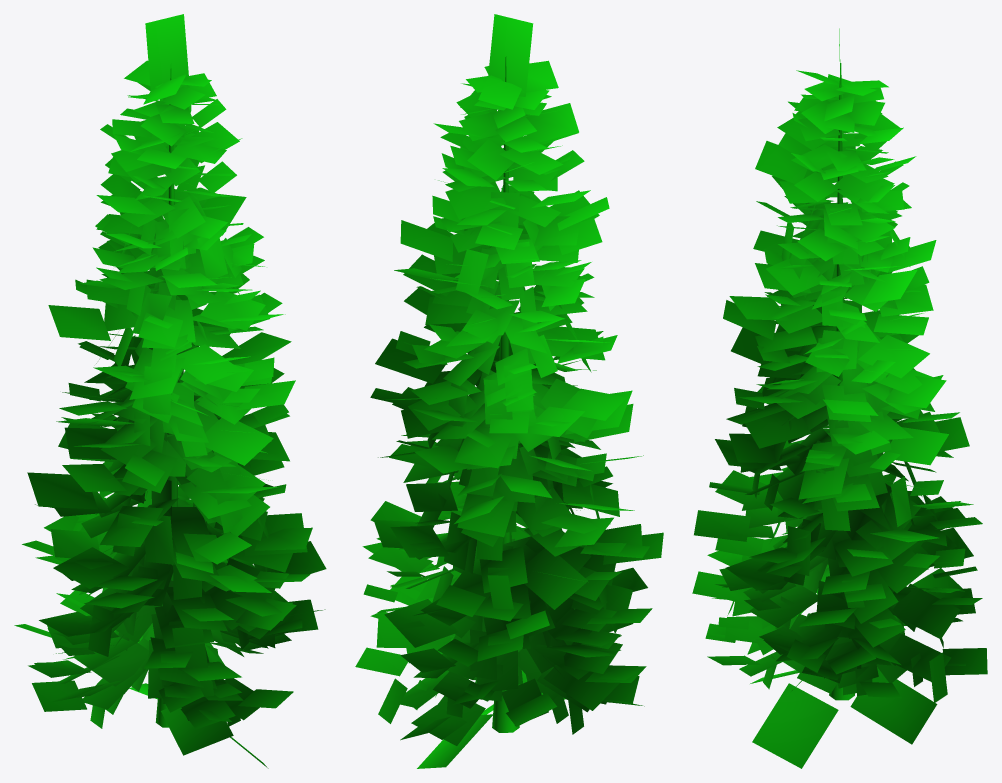
Rendered from tree_spruce_b_lod1.glb.
The picture shows the model from 3 angles, left to right: view 1: azimuth 30°, elevation 25°; view 2: azimuth 150°, elevation 25°; view 3: azimuth 270°, elevation 25°; orthographic projection. The views are drawn at different scales.
Parts seen in each view (by area): view 1: tree_spruce_b_lod1.2, tree_spruce_b_lod1.1, tree_spruce_b_lod1.0; view 2: tree_spruce_b_lod1.2, tree_spruce_b_lod1.1, tree_spruce_b_lod1.0; view 3: tree_spruce_b_lod1.2, tree_spruce_b_lod1.1, tree_spruce_b_lod1.0.
Part boxes in pixels (box(x1,y1,x2,y2)): tree_spruce_b_lod1.2: box(14, 14, 326, 729); tree_spruce_b_lod1.1: box(129, 683, 268, 768); tree_spruce_b_lod1.0: box(155, 63, 177, 727); tree_spruce_b_lod1.2: box(355, 14, 663, 745); tree_spruce_b_lod1.1: box(417, 670, 565, 768); tree_spruce_b_lod1.0: box(492, 56, 519, 732); tree_spruce_b_lod1.2: box(692, 28, 987, 703); tree_spruce_b_lod1.1: box(750, 667, 937, 768); tree_spruce_b_lod1.0: box(787, 63, 854, 700).
Bounding box in the file's own units: 8.24 × 21.41 × 8.07.
